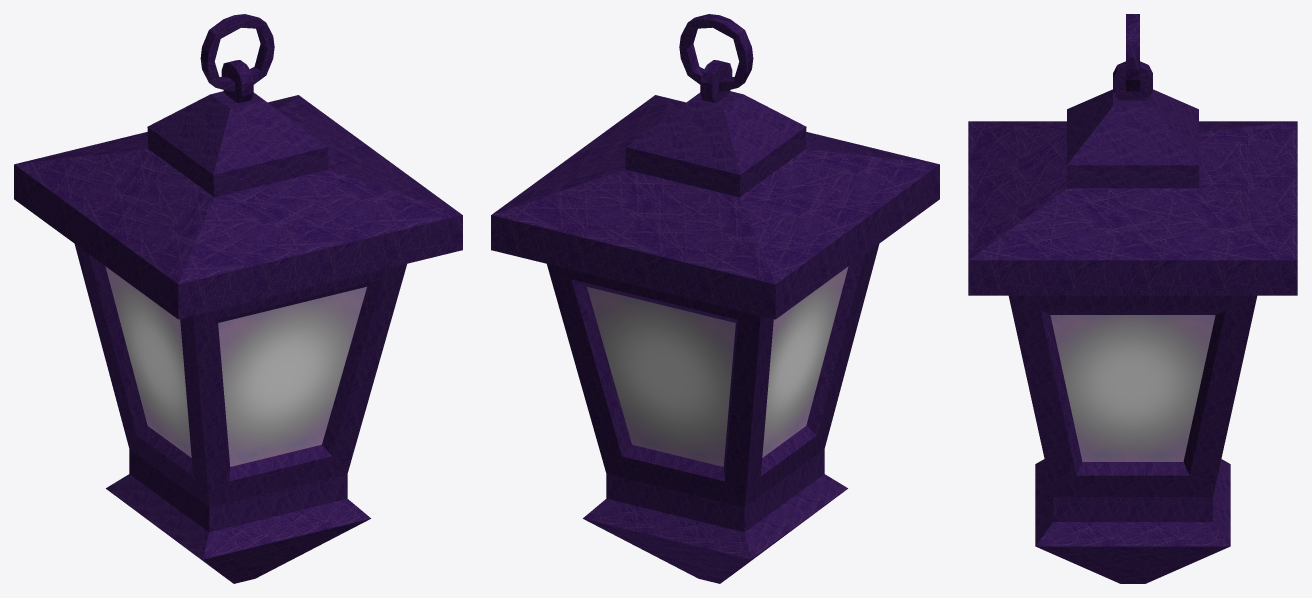
The model's file is Lantern 1.fbx.
3 views of the same model, side by side, from view 1: azimuth 30°, elevation 25°; view 2: azimuth 150°, elevation 25°; view 3: azimuth 270°, elevation 25° (orthographic).
Parts seen in each view (by area): view 1: Cube; view 2: Cube; view 3: Cube.
Boxes of the visible parts, x1,y1,x2,y2 form: Cube: (14,14,462,583); Cube: (491,14,939,583); Cube: (968,14,1297,583).
Bounding box in the file's own units: 2.61 × 2.61 × 4.9.
Materials: 1 (1 with a texture image).
